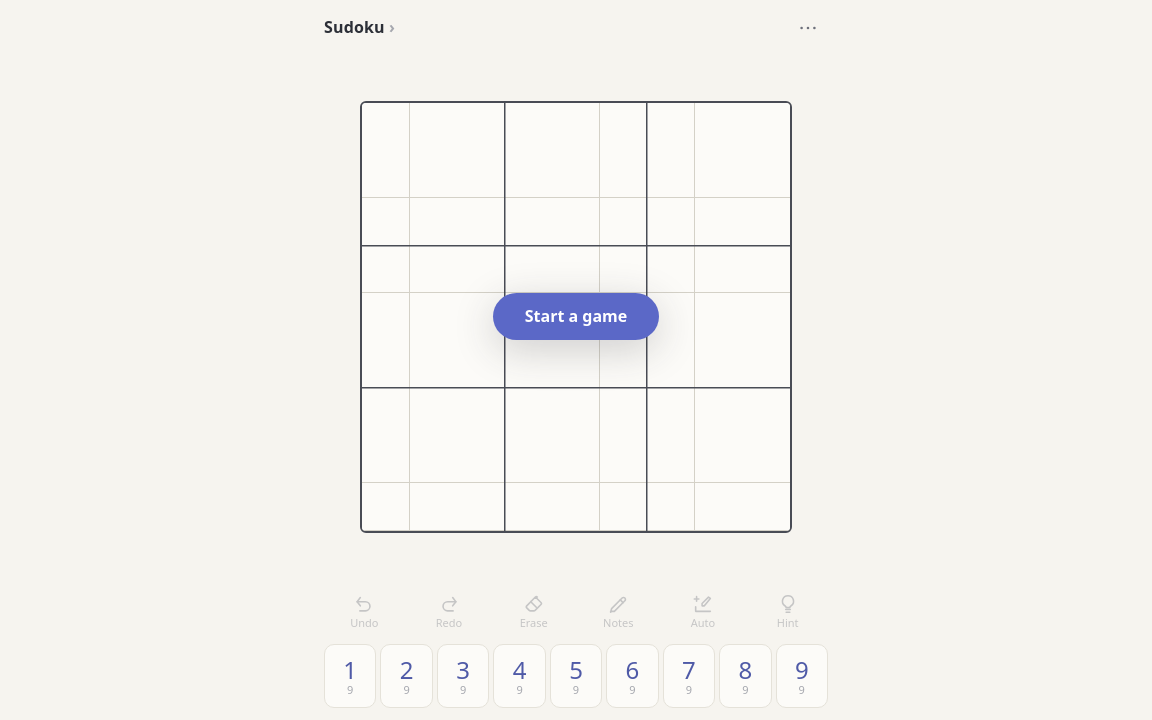
it: App › starts a game from the new-game sheet
The image size is (1152, 720).
Click the button "Start a game" at (576, 316), box top-left (493, 293), bottom-right (659, 340)
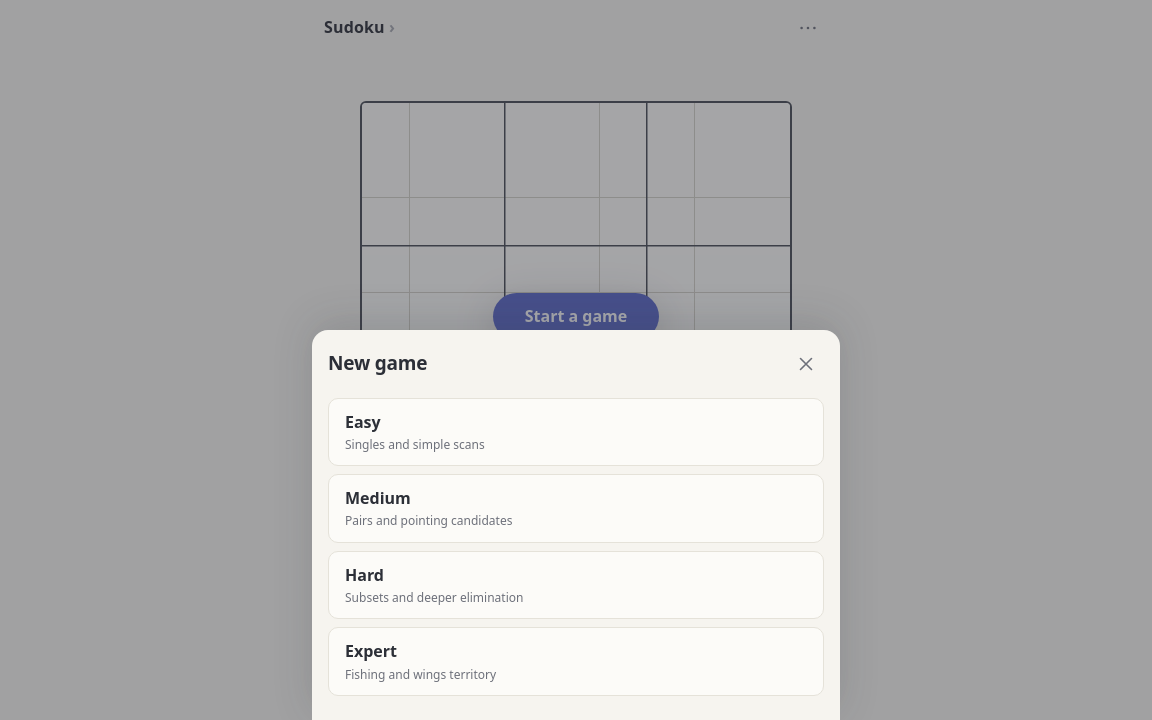
Click the button "Easy Singles and simple scans" at (363, 422), box top-left (328, 398), bottom-right (824, 466)
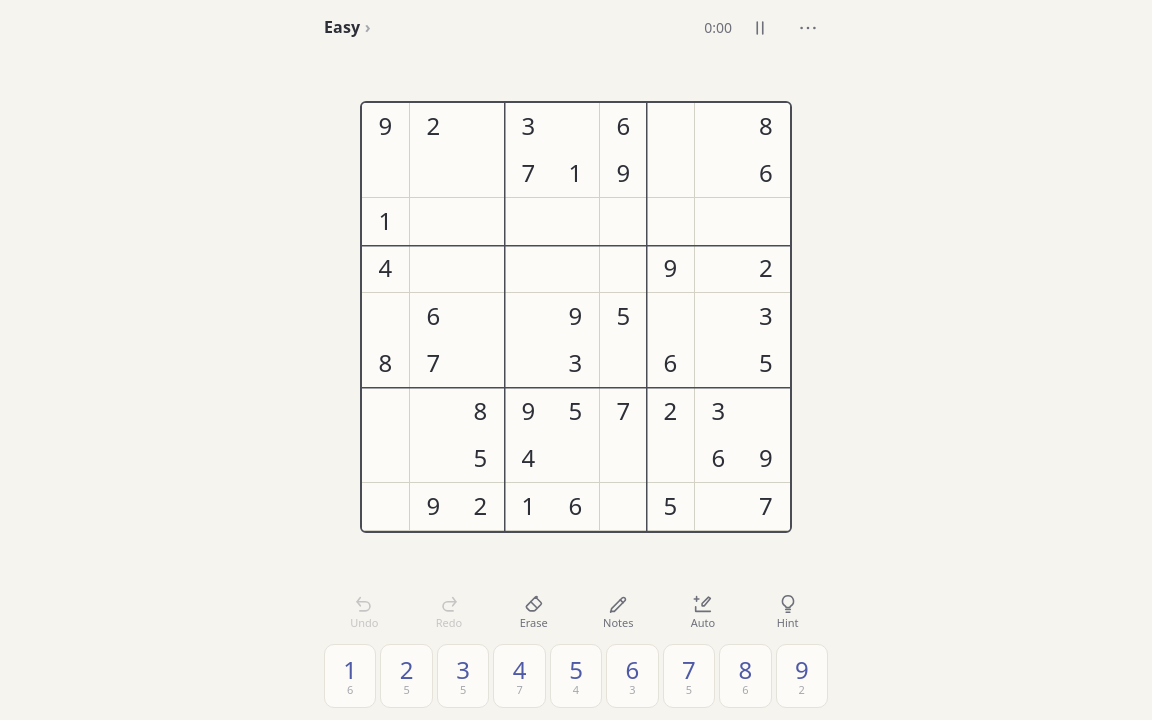
Now the dialog is gone
